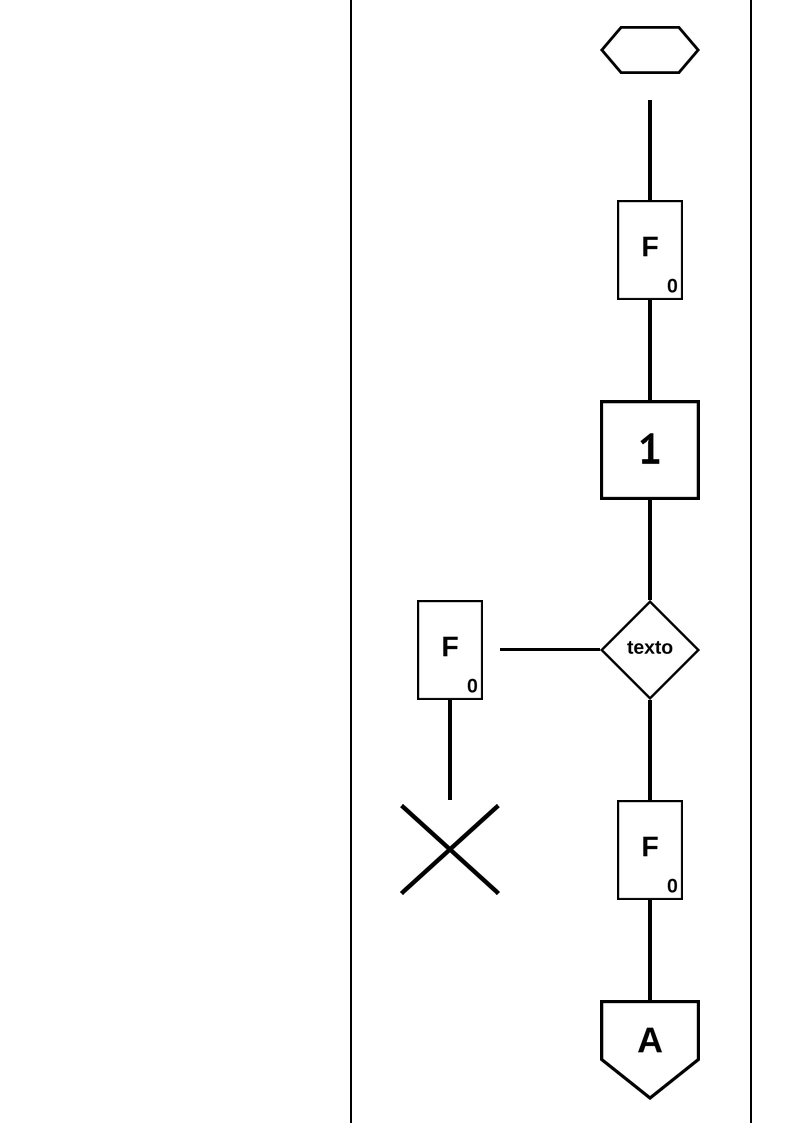conector_comienzoCorte: (600, 1000, 700, 1100)
control: (600, 400, 700, 500)
decision: (600, 600, 700, 700)
destruccion: (400, 804, 500, 895)
documento: (617, 200, 683, 300), (617, 800, 683, 900), (417, 600, 483, 700)
proceso: (600, 26, 700, 74)
trasladoDeInformacion_horizontal: (500, 628, 600, 671)
trasladoDeInformacion_vertical: (628, 100, 672, 200), (628, 300, 672, 400), (628, 500, 672, 600), (628, 700, 672, 800), (628, 900, 672, 1000), (428, 700, 472, 800)
